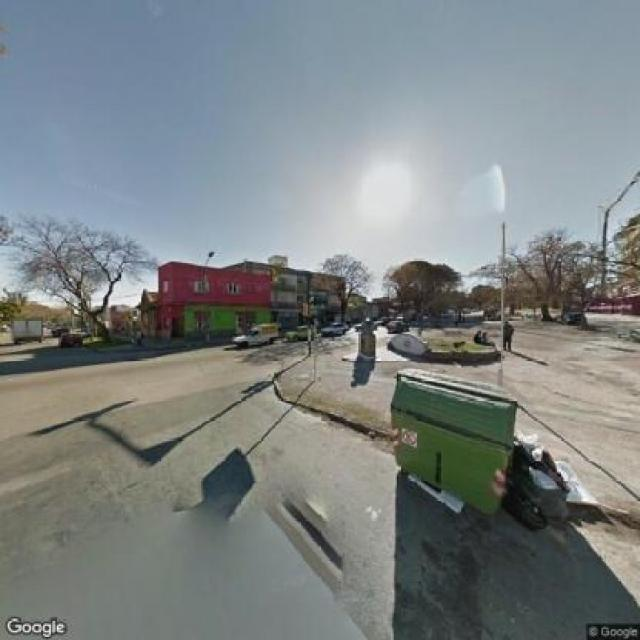garbage: (508, 421, 619, 536)
